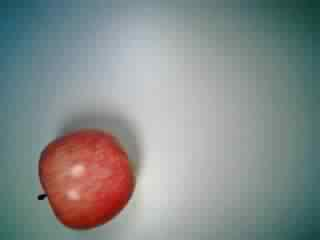apple: (33, 131, 140, 234)
